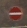No entry: (6, 5, 22, 22)
